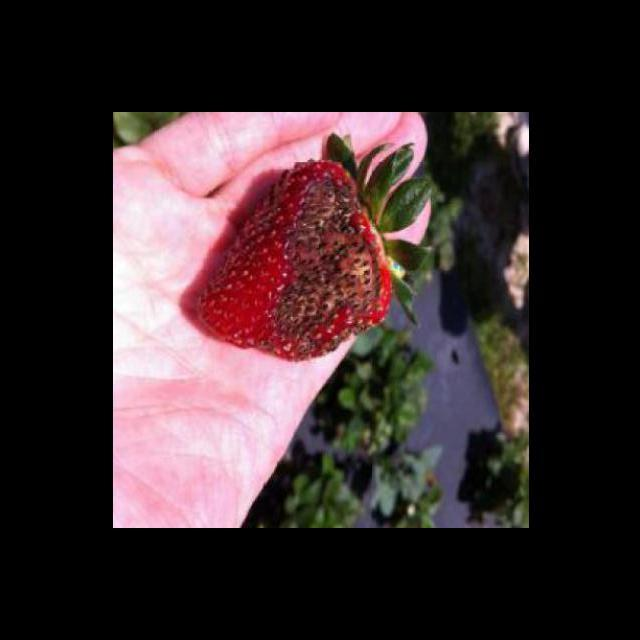Anthracnose Fruit Rot: (250, 157, 391, 364)
